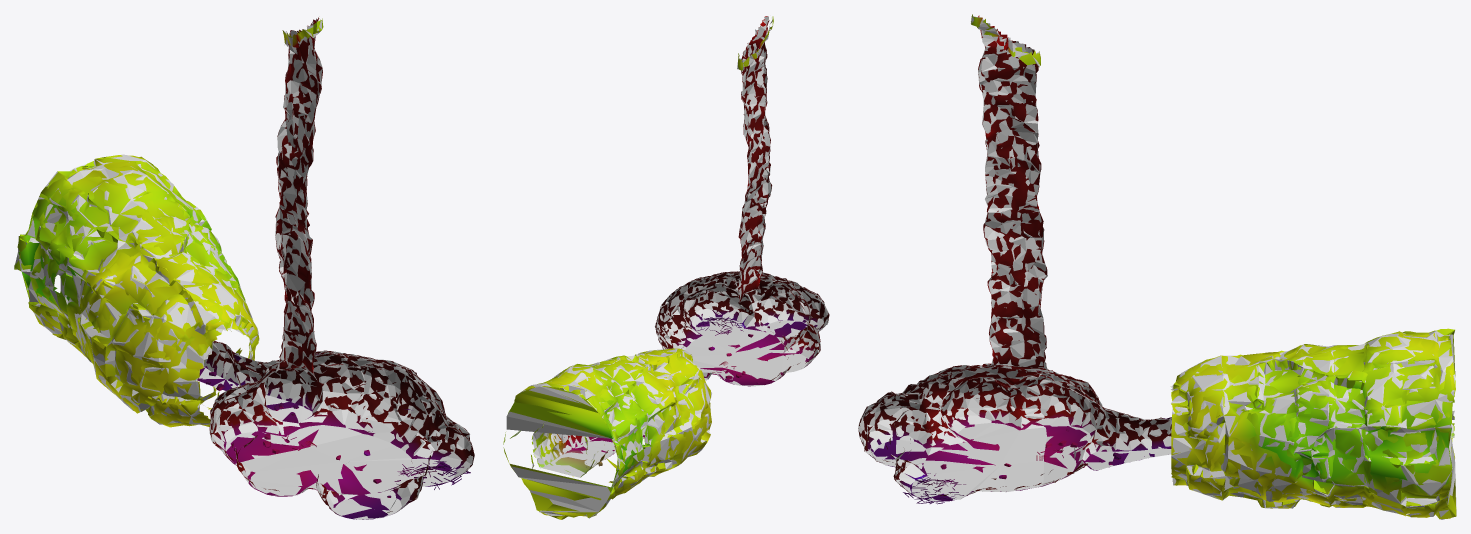
The model's file is cave.glb.
The picture shows the model from 3 angles, left to right: view 1: azimuth 30°, elevation 25°; view 2: azimuth 150°, elevation 25°; view 3: azimuth 270°, elevation 25°; orthographic projection. The views are drawn at different scales.
Visible parts, largest first — view 1: cave-col, cave, cave-far; view 2: cave-col, cave, cave-far; view 3: cave-col, cave, cave-far.
Part boxes in pixels (x1=…): cave-col: x1=15, y1=18, x2=473, y2=519; cave: x1=14, y1=17, x2=474, y2=519; cave-far: x1=15, y1=156, x2=259, y2=427; cave-col: x1=506, y1=16, x2=828, y2=518; cave: x1=503, y1=16, x2=829, y2=519; cave-far: x1=504, y1=348, x2=711, y2=519; cave-col: x1=858, y1=16, x2=1456, y2=519; cave: x1=858, y1=14, x2=1456, y2=518; cave-far: x1=1171, y1=330, x2=1456, y2=519.
Bounding box in the file's own units: 13.77 × 33.24 × 37.47.
